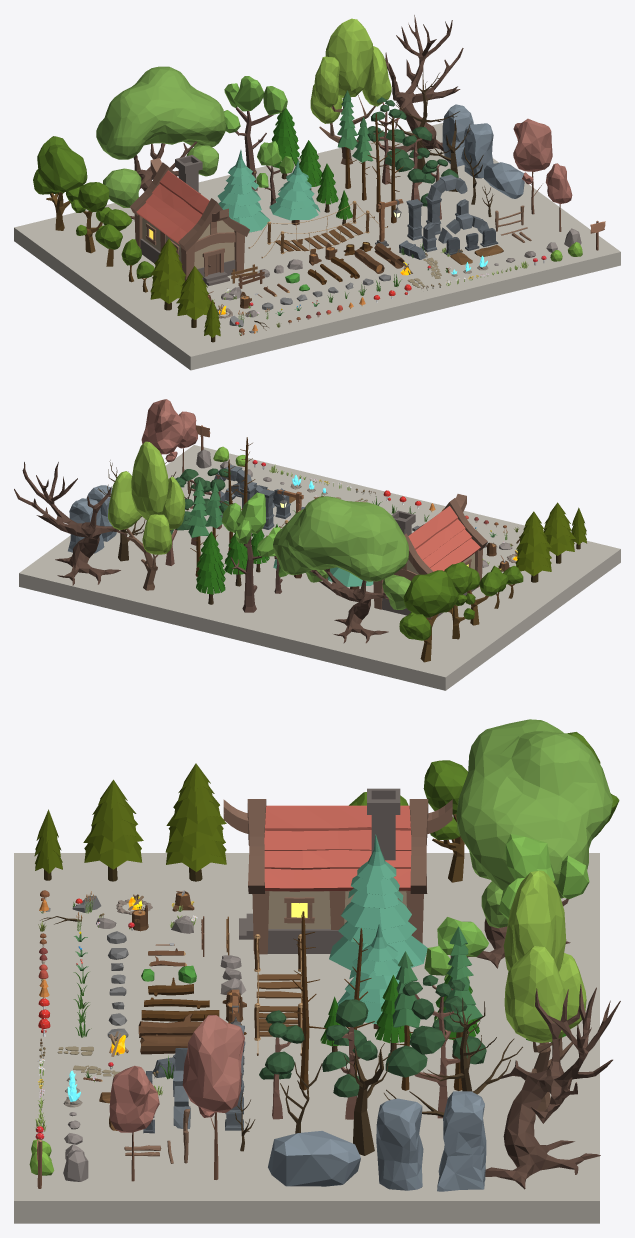
File: NaturePack_AllModels.fbx
The picture shows the model from 3 angles, top to bottom: view 1: azimuth 30°, elevation 25°; view 2: azimuth 150°, elevation 25°; view 3: azimuth 270°, elevation 25°; orthographic projection. The views are drawn at different scales.
Parts seen in each view (by area): view 1: BG_Cube, Tree5_2, House, Tree1, Tree1_1, Tree5_1, Tree2_1, Tree4_2, Tree3_1, Tree4_1, Tree4_1.001, Bridge1 (+19 smaller); view 2: BG_Cube, Tree5_2, Tree1, House, Tree5_1, Tree1_1, Tree2_1, Tree3_1, Tree4_1.001, Tree3_1.001, Tree4_2.001, Tree1_2 (+14 smaller); view 3: BG_Cube, House, Tree5_2, Tree1, Tree5_1, Tree4_2, Tree3_1, Tree6_1, Tree4_1.001, BigRock3, BigRock1, BigRock2 (+20 smaller).
Part boxes in pixels (x1=…): BG_Cube: x1=14, y1=123, x2=620, y2=370; Tree5_2: x1=96, y1=66, x2=225, y2=219; House: x1=130, y1=155, x2=249, y2=285; Tree1: x1=310, y1=18, x2=391, y2=164; Tree1_1: x1=33, y1=136, x2=87, y2=230; Tree5_1: x1=381, y1=15, x2=463, y2=152; Tree2_1: x1=224, y1=76, x2=287, y2=190; Tree4_2: x1=217, y1=150, x2=270, y2=232; Tree3_1: x1=513, y1=118, x2=552, y2=214; Tree4_1: x1=269, y1=160, x2=320, y2=225; Tree4_1.001: x1=150, y1=238, x2=185, y2=310; Bridge1: x1=248, y1=200, x2=387, y2=258; BG_Cube: x1=19, y1=445, x2=620, y2=690; Tree5_2: x1=273, y1=496, x2=410, y2=643; Tree1: x1=108, y1=441, x2=185, y2=590; House: x1=373, y1=494, x2=487, y2=619; Tree5_1: x1=14, y1=462, x2=127, y2=585; Tree1_1: x1=399, y1=570, x2=458, y2=662; Tree2_1: x1=221, y1=492, x2=275, y2=612; Tree3_1: x1=141, y1=399, x2=184, y2=463; Tree4_1.001: x1=515, y1=511, x2=551, y2=582; Tree3_1.001: x1=196, y1=531, x2=225, y2=604; Tree4_2.001: x1=544, y1=502, x2=575, y2=563; Tree1_2: x1=444, y1=562, x2=474, y2=639; BG_Cube: x1=14, y1=853, x2=599, y2=1223; House: x1=223, y1=788, x2=452, y2=954; Tree5_2: x1=456, y1=719, x2=612, y2=968; Tree1: x1=503, y1=870, x2=586, y2=1111; Tree5_1: x1=485, y1=984, x2=620, y2=1189; Tree4_2: x1=329, y1=834, x2=427, y2=970; Tree3_1: x1=182, y1=1015, x2=244, y2=1179; Tree6_1: x1=385, y1=975, x2=486, y2=1118; Tree4_1.001: x1=165, y1=763, x2=226, y2=881; BigRock3: x1=268, y1=1131, x2=360, y2=1186; BigRock1: x1=437, y1=1091, x2=486, y2=1191; BigRock2: x1=376, y1=1098, x2=423, y2=1190.
Size of what is drawn, in the model's own units: 6476 by 2216 by 4642.
